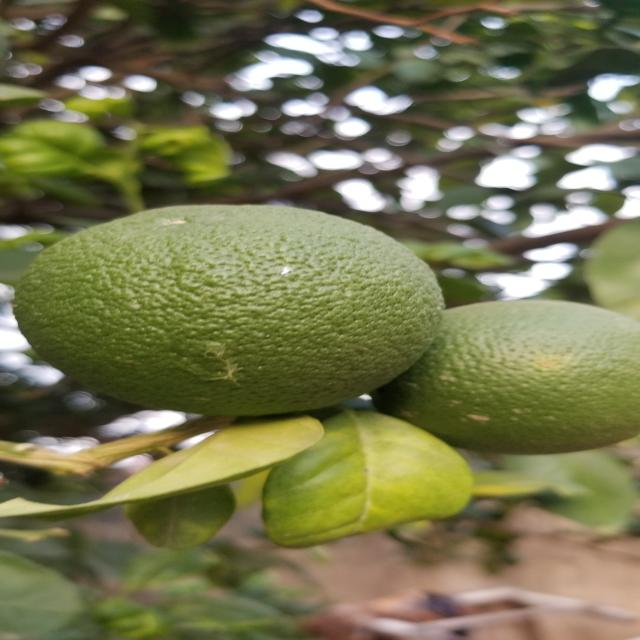Unripe: (10, 197, 428, 413), (392, 294, 630, 457)
